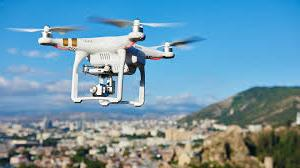drone: (27, 14, 195, 98)
